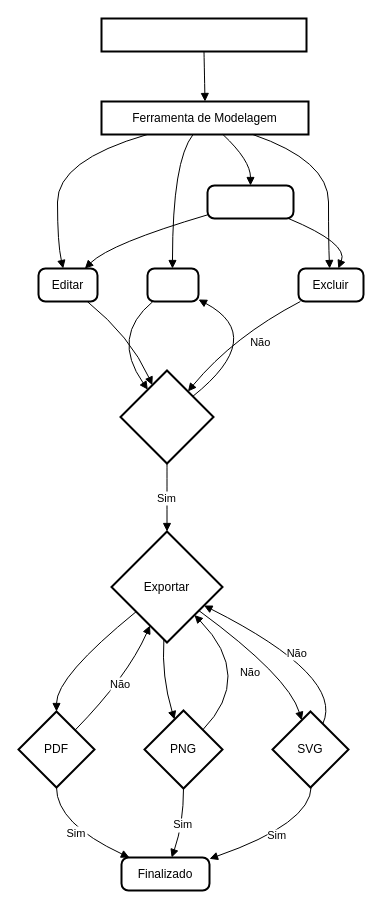
The diagram is 381 pixels wide and 908 high, and some of its shapes have lost their labels. Each missing label, with the centre of its shape:
"Criar" goes at [172,284].
"Modelagem da Arquitetura" goes at [203,34].
"Salvar" goes at [166,416].
"Visualizar" goes at [250,201].
